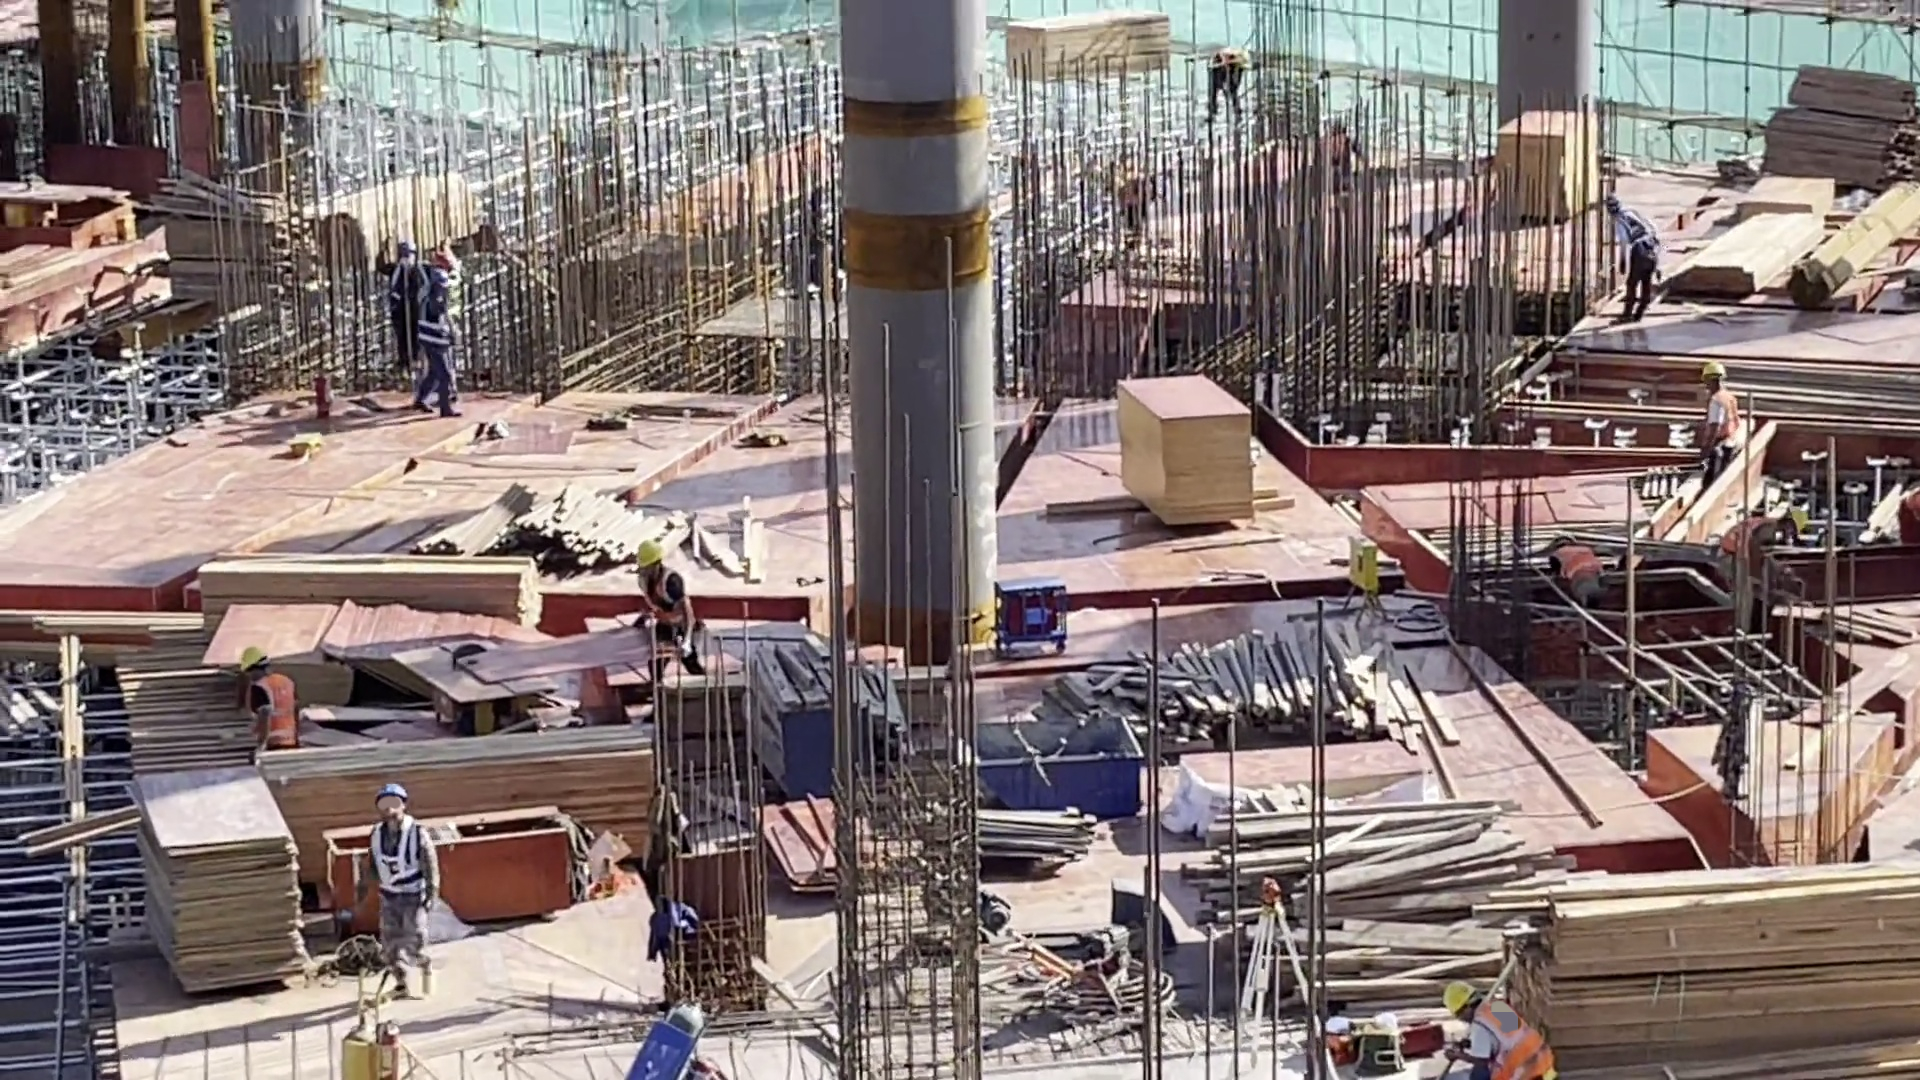board: (130, 763, 312, 994), (1115, 372, 1258, 528), (1496, 105, 1602, 222)
cutter: (392, 629, 555, 732), (1, 176, 139, 254)
ebox: (1339, 535, 1384, 619)
helmet: (1443, 977, 1474, 1017), (236, 644, 268, 672), (633, 541, 666, 569), (375, 785, 408, 804), (1697, 360, 1730, 379), (430, 268, 451, 291), (393, 238, 413, 257), (433, 250, 454, 269), (1604, 195, 1620, 212)
hopper: (956, 717, 1146, 822)
person: (358, 782, 442, 999), (1440, 976, 1558, 1080), (633, 539, 708, 680), (1603, 195, 1661, 330), (372, 235, 425, 370), (239, 644, 298, 759), (416, 263, 461, 412), (1722, 501, 1806, 563), (1547, 528, 1605, 603), (1694, 361, 1740, 449), (1206, 45, 1249, 117)
vest: (1469, 999, 1557, 1080), (369, 818, 420, 895), (640, 569, 693, 631), (252, 674, 297, 746), (1700, 388, 1739, 443), (386, 261, 421, 314), (1558, 543, 1602, 582), (418, 307, 453, 355), (1615, 211, 1658, 247)
wood: (1499, 867, 1920, 1080), (1187, 799, 1537, 996), (1060, 619, 1374, 758), (257, 733, 664, 822), (412, 488, 772, 573), (196, 550, 535, 623), (157, 172, 306, 312), (1662, 206, 1827, 301), (320, 174, 483, 255), (1001, 8, 1170, 83)
